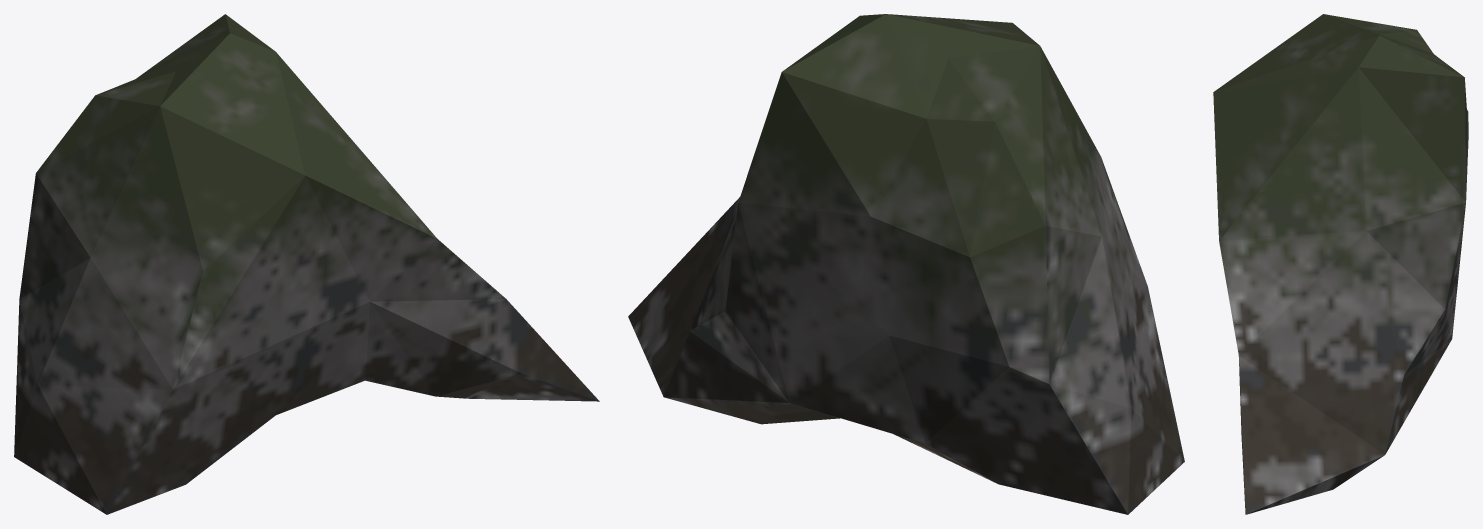
File: Rock_03.fbx
The picture shows the model from 3 angles, left to right: view 1: azimuth 30°, elevation 25°; view 2: azimuth 150°, elevation 25°; view 3: azimuth 270°, elevation 25°; orthographic projection. The views are drawn at different scales.
Visible parts, largest first — view 1: Rock_03; view 2: Rock_03; view 3: Rock_03.
Part boxes in pixels (bbox=[...]): Rock_03: bbox=[14, 14, 599, 514]; Rock_03: bbox=[628, 14, 1184, 514]; Rock_03: bbox=[1213, 14, 1468, 514].
Size of the model in its own units: 513 by 385 by 247.
Materials: 1 (1 with a texture image).
